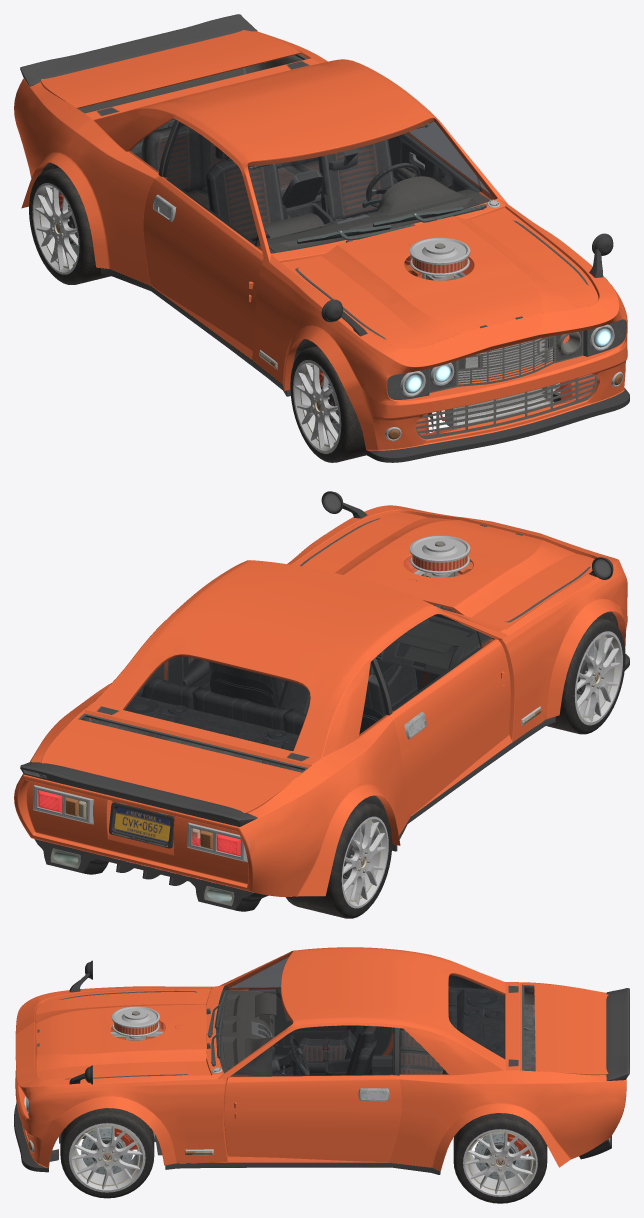
File: muscle-car-concept.glb
3 renders of one model, top to bottom at view 1: azimuth 30°, elevation 25°; view 2: azimuth 150°, elevation 25°; view 3: azimuth 270°, elevation 25°, orthographic. The views are drawn at different scales.
Visible parts, largest first — view 1: paint, glass, interior, trim, trim_cutout, interior.2, wheel_fr_rim, headlight.2, wheel_rr_rim, wheel_rr_tyre, wheel_fr_tyre, engine (+5 smaller); view 2: paint, glass, interior, trim, interior.2, trim.2, wheel_fr_rim, taillight, wheel_rr_rim, wheel_rr_tyre, engine, wheel_fr_tyre (+3 smaller); view 3: paint, glass, interior, trim, interior.2, wheel_fl_rim, wheel_rl_rim, wheel_rl_tyre, wheel_fl_tyre, chassis, engine, trim.2 (+3 smaller).
Boxes of the visible parts, x1,y1,x2,y2 form: paint: [14, 30, 627, 450]; glass: [129, 118, 496, 253]; interior: [141, 119, 492, 253]; trim: [20, 14, 629, 462]; trim_cutout: [415, 336, 597, 439]; interior.2: [253, 148, 497, 252]; wheel_fr_rim: [293, 360, 341, 453]; headlight.2: [387, 319, 626, 399]; wheel_rr_rim: [32, 183, 79, 274]; wheel_rr_tyre: [29, 167, 110, 284]; wheel_fr_tyre: [290, 346, 366, 462]; engine: [404, 237, 473, 280]; paint: [14, 505, 627, 896]; glass: [123, 614, 494, 750]; interior: [125, 633, 493, 750]; trim: [20, 491, 629, 826]; interior.2: [132, 615, 510, 843]; trim.2: [34, 524, 522, 911]; wheel_fr_rim: [574, 631, 622, 725]; taillight: [33, 785, 247, 862]; wheel_rr_rim: [341, 816, 388, 908]; wheel_rr_tyre: [285, 801, 392, 918]; engine: [403, 535, 473, 581]; wheel_fr_tyre: [546, 617, 625, 734]; paint: [15, 947, 626, 1170]; glass: [216, 953, 504, 1076]; interior: [227, 988, 501, 1076]; trim: [14, 960, 629, 1172]; interior.2: [216, 975, 496, 1117]; wheel_fl_rim: [69, 1123, 145, 1192]; wheel_rl_rim: [463, 1129, 537, 1196]; wheel_rl_tyre: [453, 1113, 547, 1203]; wheel_fl_tyre: [60, 1108, 154, 1198]; chassis: [49, 1129, 610, 1174]; engine: [110, 1006, 180, 1040]; trim.2: [37, 991, 611, 1159].
Bounding box in the file's own units: 2.2 × 1.4 × 4.77.
22 materials, 21 textured.
